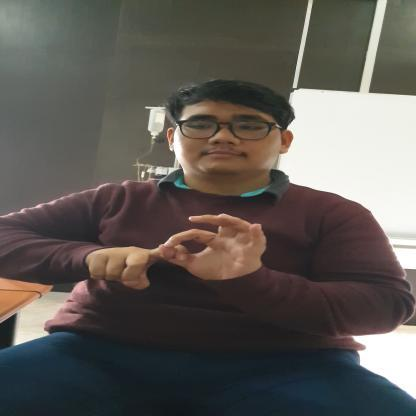Q: (84, 213, 266, 292)
